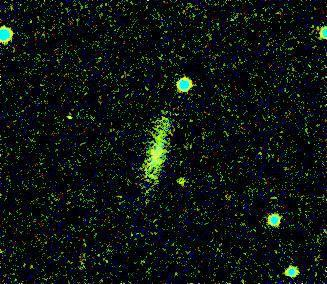star: (166, 166, 196, 196)
